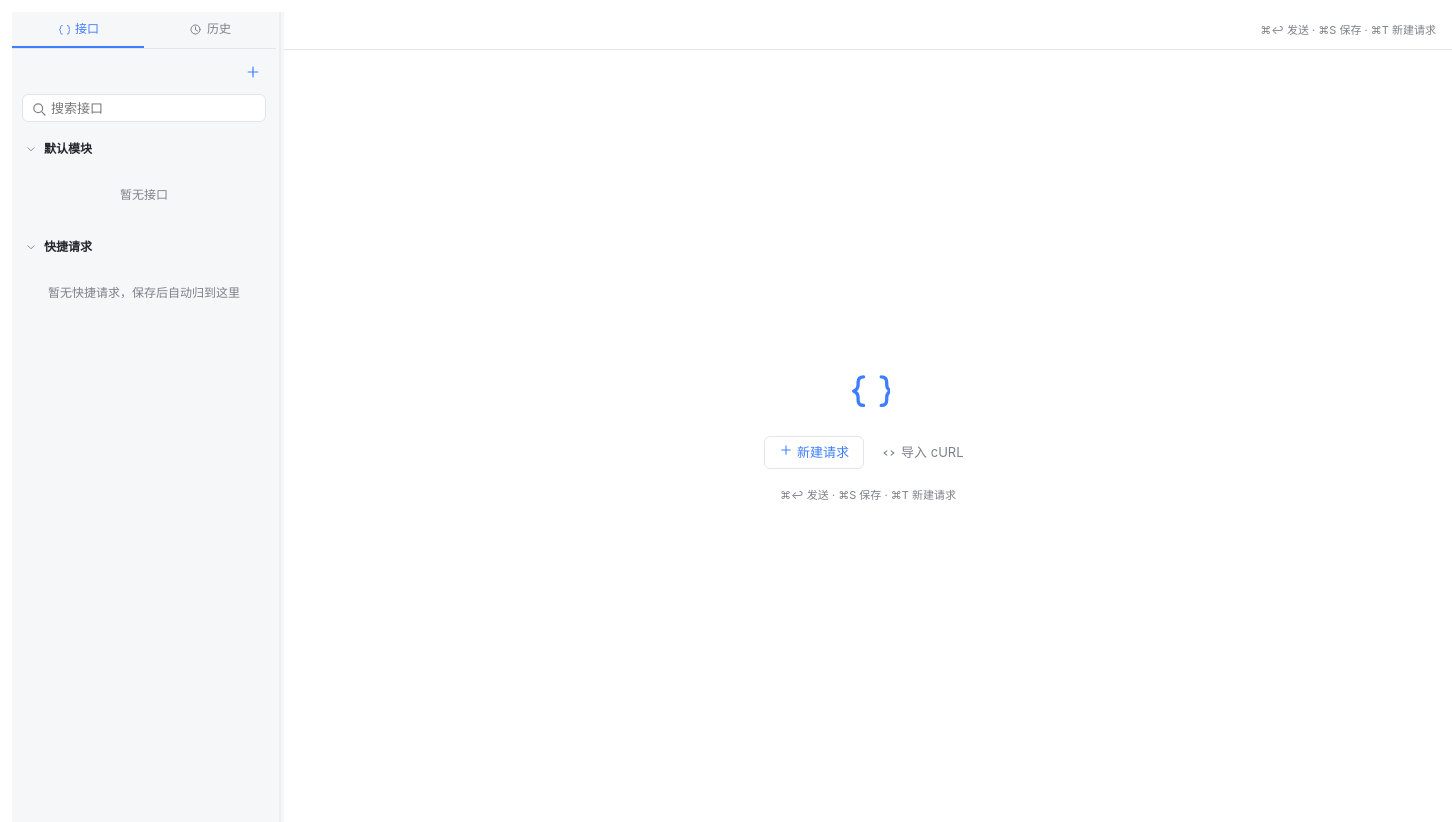
pane splitters › keeps the stored height while the request has no response yet
The width and height of the screenshot is (1452, 822).
Click the button "新建请求". click: (814, 453)
box: [764, 436, 864, 469]
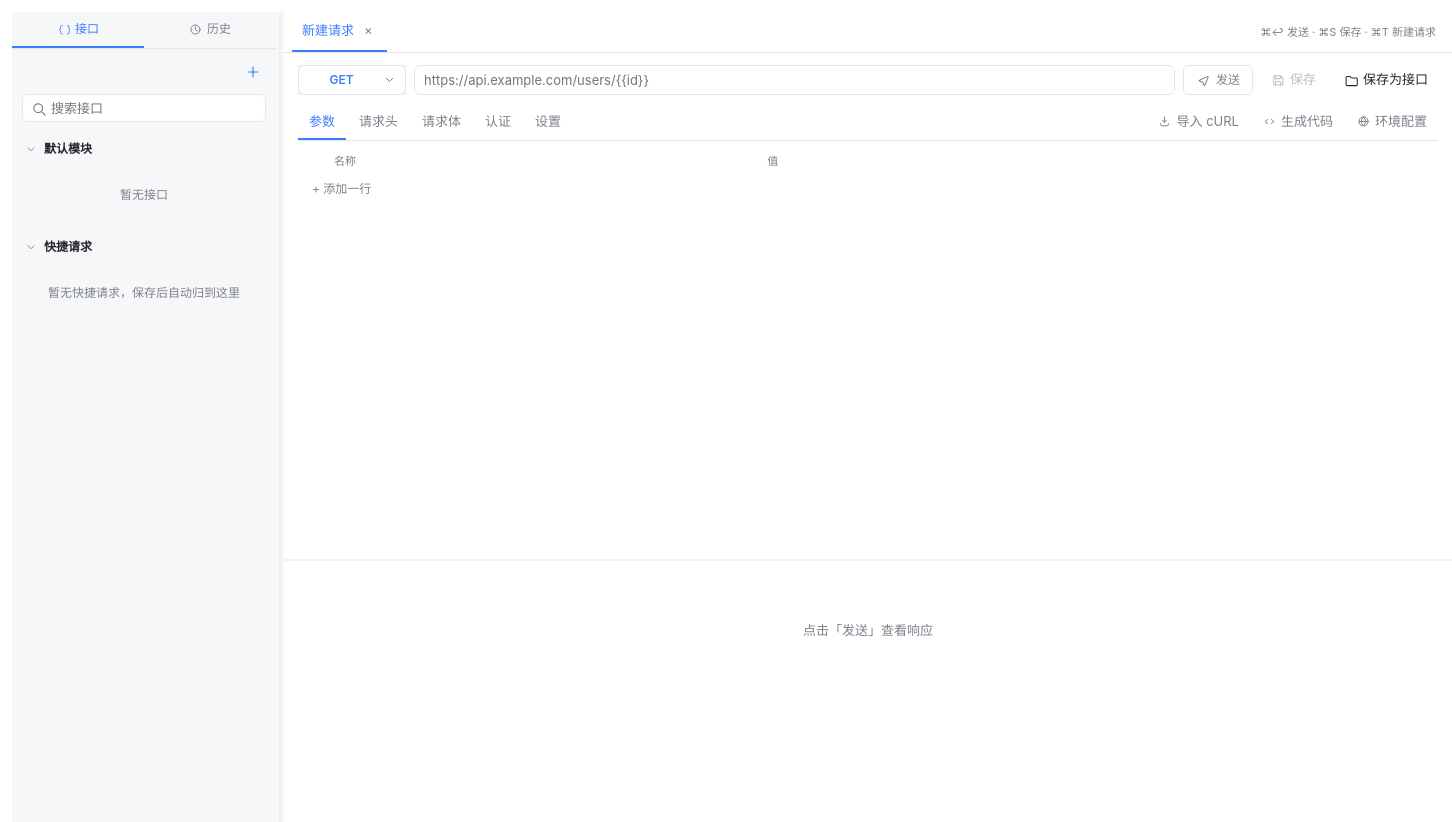
Check: the text "点击「发送」查看响应" is shown, box [803, 622, 933, 638]
